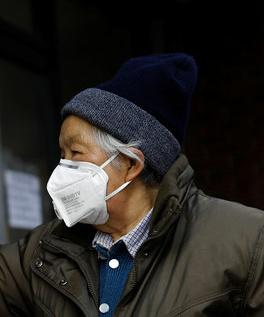OK: (51, 129, 114, 227)
